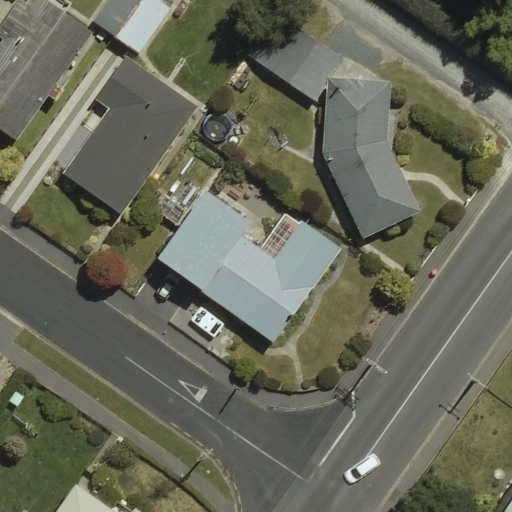DT: (355, 348, 391, 388), (456, 363, 494, 398), (188, 437, 218, 469)
